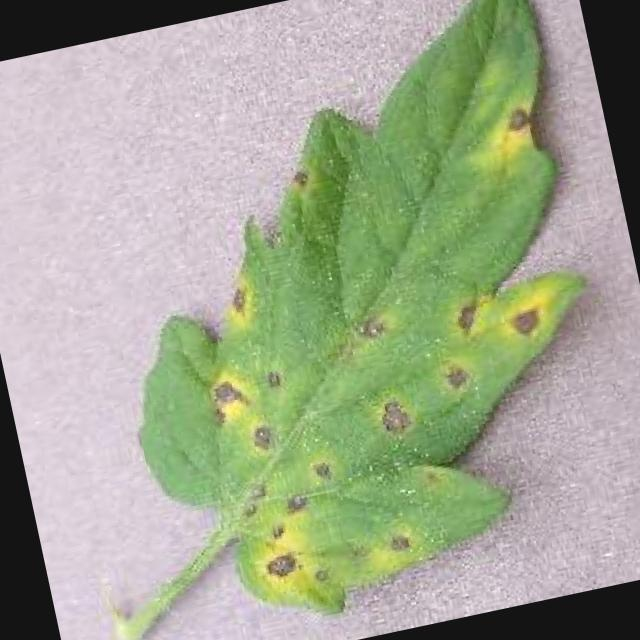leaf_spot: (116, 0, 583, 639)
